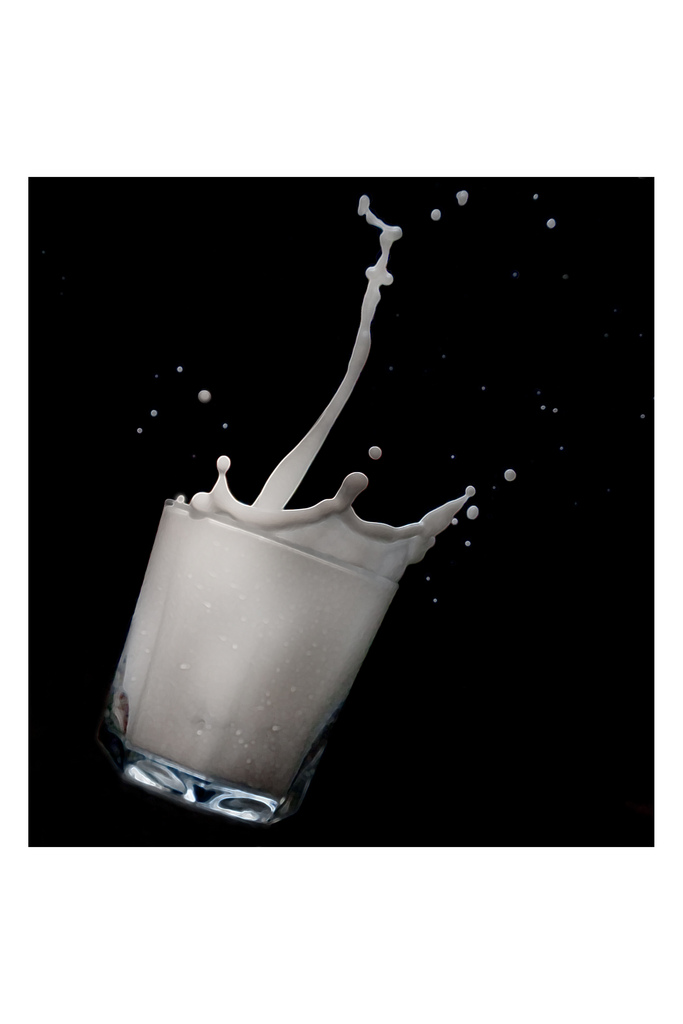glass of milk: (104, 489, 404, 829)
